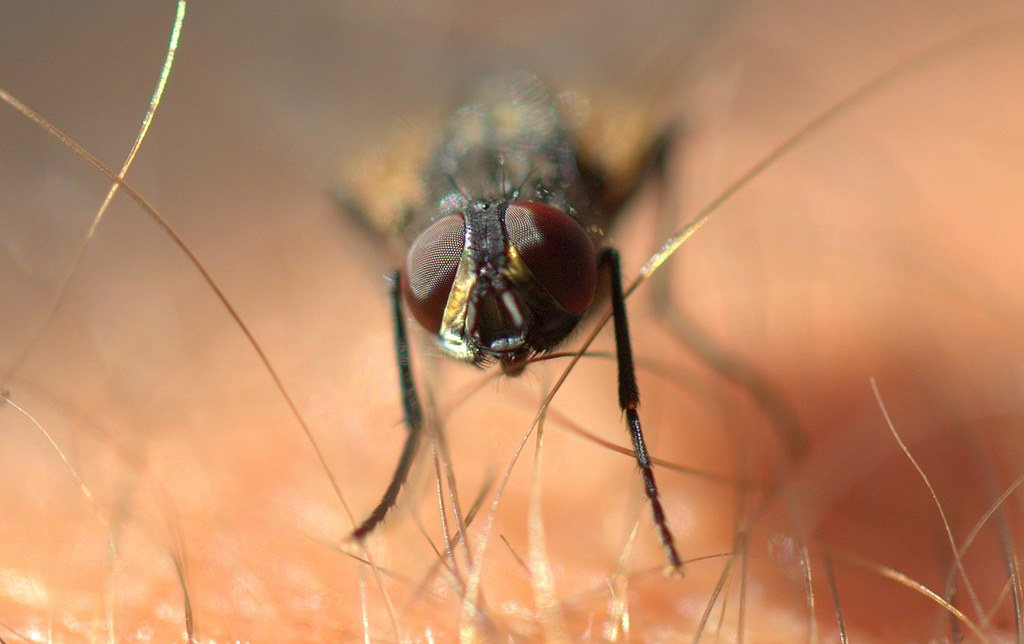insect: (111, 0, 835, 628), (339, 68, 685, 572)
